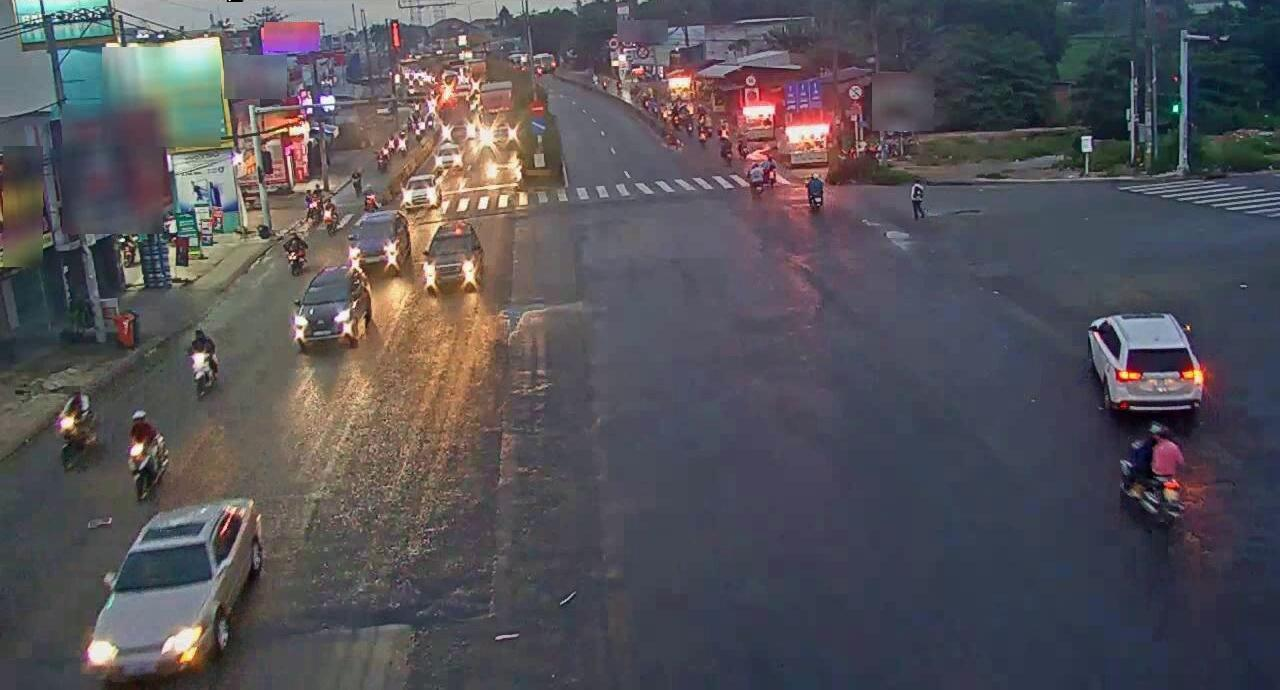xe hoi: (82, 496, 259, 677), (1083, 300, 1207, 434), (290, 272, 364, 347), (348, 207, 410, 280), (421, 222, 483, 294)
xe may: (1119, 418, 1191, 526), (121, 407, 169, 498), (52, 379, 97, 469), (185, 331, 227, 406)
